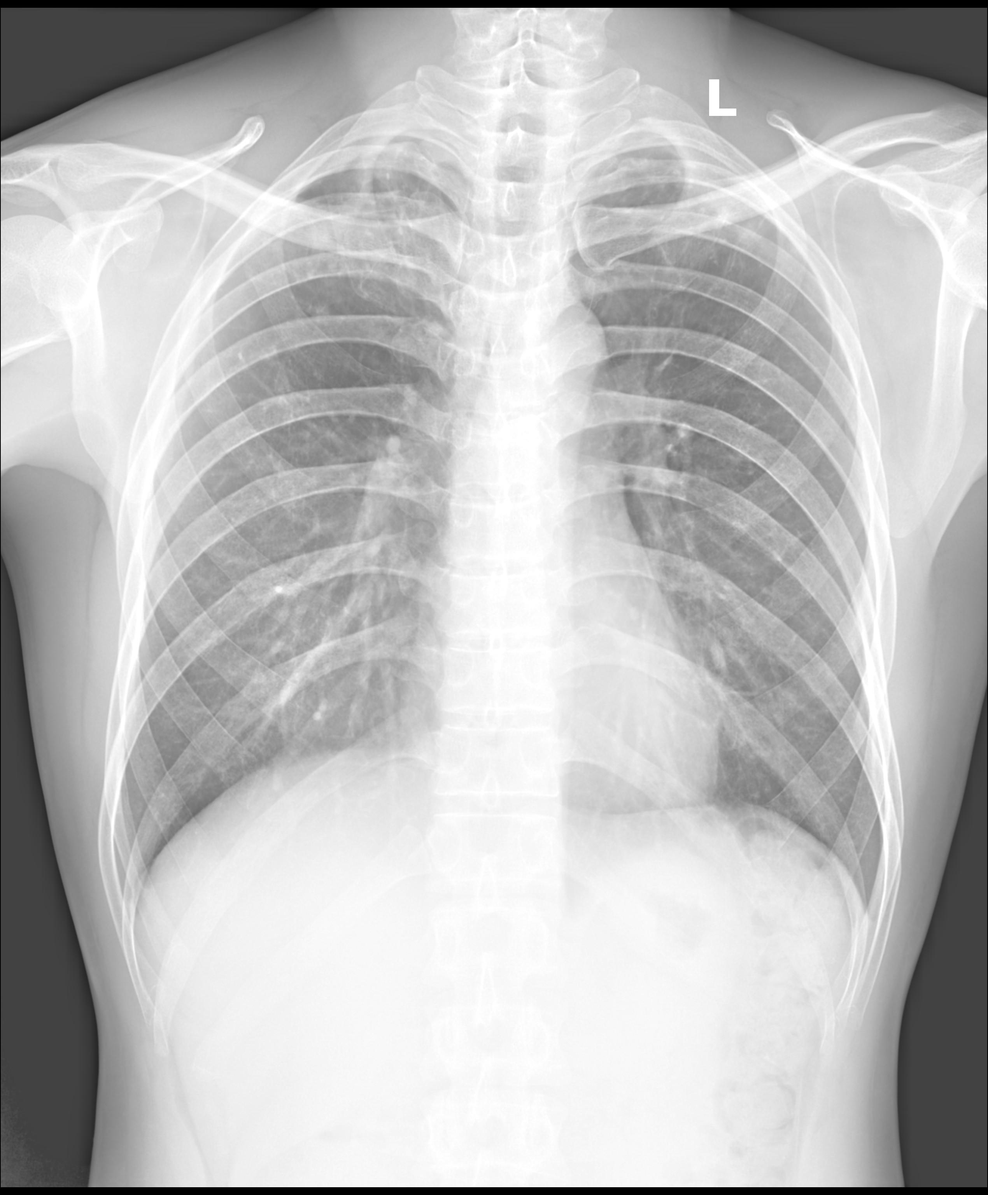Pleural thickening: (105, 832, 161, 923), (320, 167, 433, 202), (861, 843, 887, 940)
